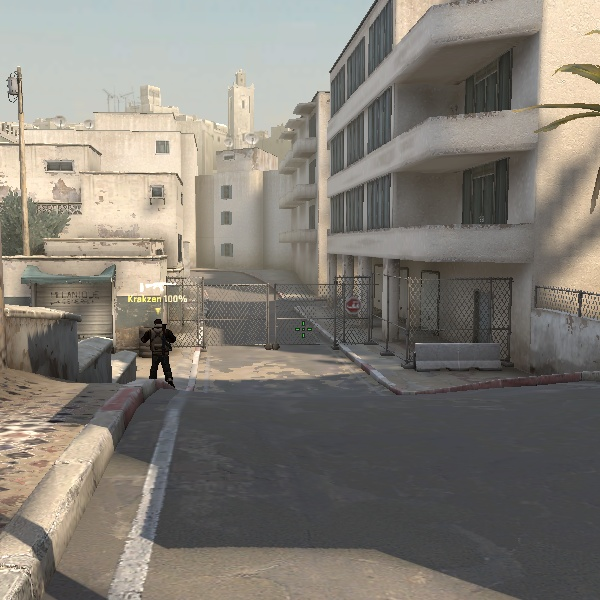t_body: (140, 313, 181, 385)
t_head: (151, 315, 167, 331)
